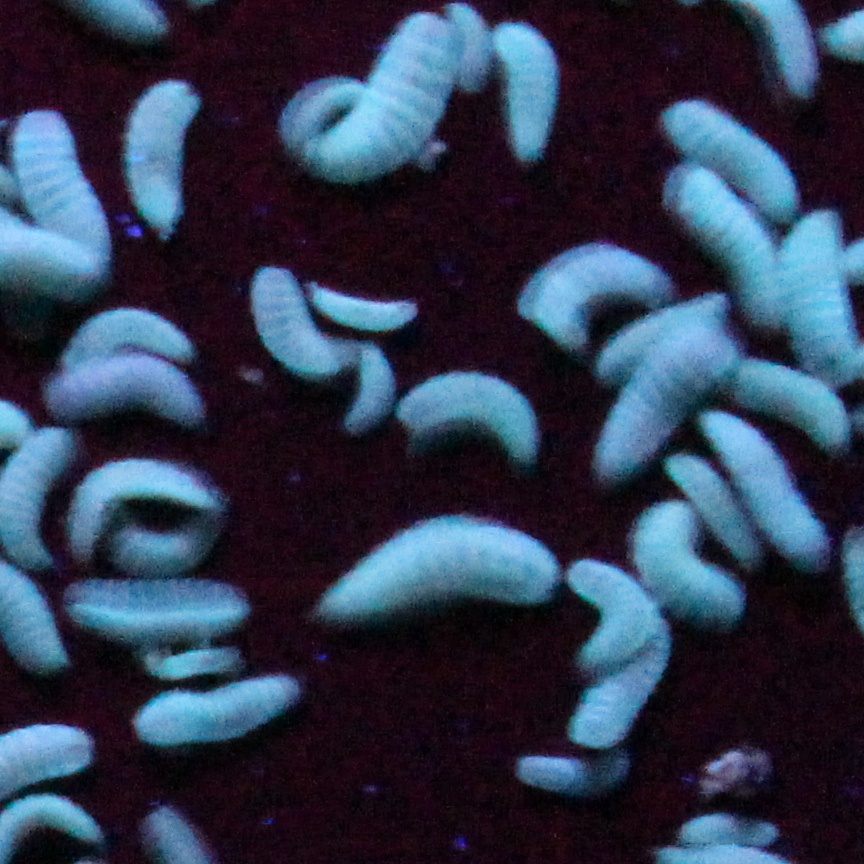larve: (322, 528, 543, 604), (328, 36, 450, 173), (721, 406, 810, 553), (612, 336, 714, 462), (677, 97, 801, 196), (680, 173, 775, 297), (787, 210, 856, 376), (396, 381, 545, 457), (59, 360, 200, 434), (645, 517, 745, 615), (136, 71, 194, 229), (26, 120, 101, 239), (531, 255, 652, 325), (252, 281, 338, 376), (83, 587, 248, 633), (148, 675, 295, 726), (675, 459, 750, 557), (610, 299, 701, 376), (83, 467, 212, 521), (742, 373, 838, 441), (597, 633, 663, 728), (580, 567, 648, 658), (7, 429, 50, 566), (507, 32, 552, 159), (514, 753, 631, 792), (126, 521, 217, 570), (77, 313, 187, 348), (317, 285, 408, 324), (336, 357, 384, 429), (687, 814, 790, 846), (293, 83, 356, 127), (461, 10, 493, 90), (158, 648, 239, 672)
